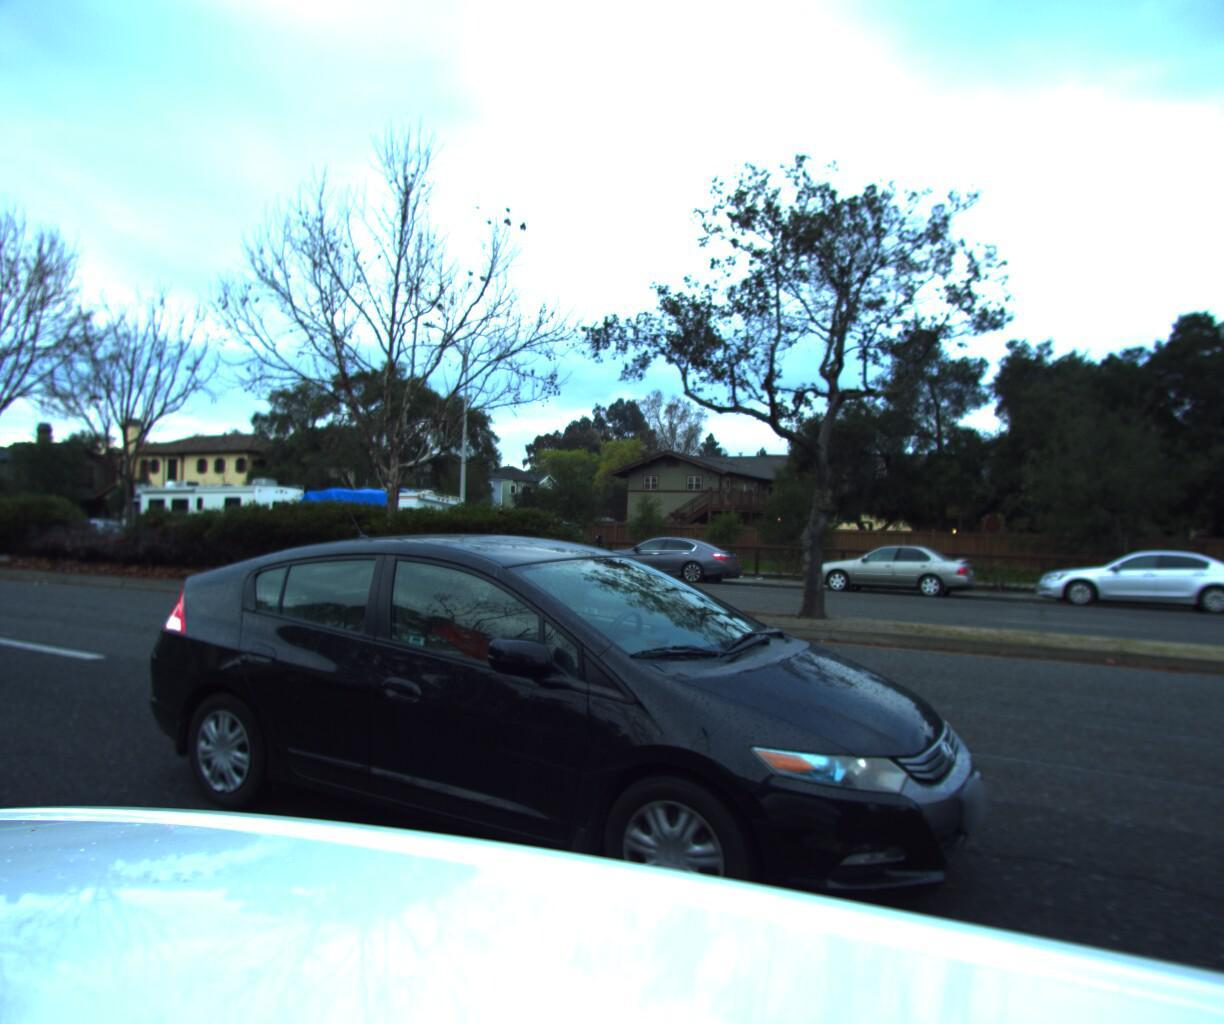car: (112, 541, 989, 1024), (1029, 540, 1224, 621), (442, 510, 604, 584), (586, 528, 749, 593), (805, 539, 981, 599)
other_vehicle: (284, 477, 470, 579), (105, 467, 313, 556)
